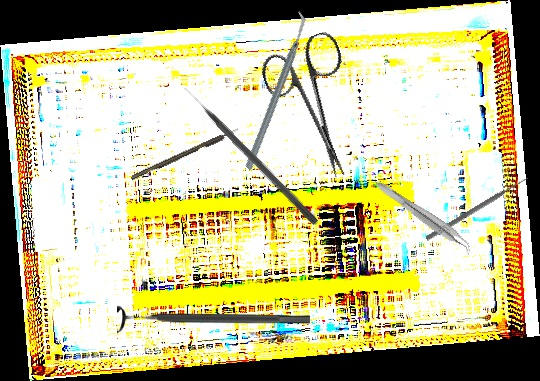Chopper: (195, 9, 355, 171)
Fixation Ring: (117, 304, 310, 335)
Hook Surgical: (129, 127, 241, 181)
Iris Scissors: (255, 28, 381, 191)
Pusher: (182, 83, 321, 227), (424, 175, 530, 242)
Tissue Forceps: (370, 179, 478, 256)
